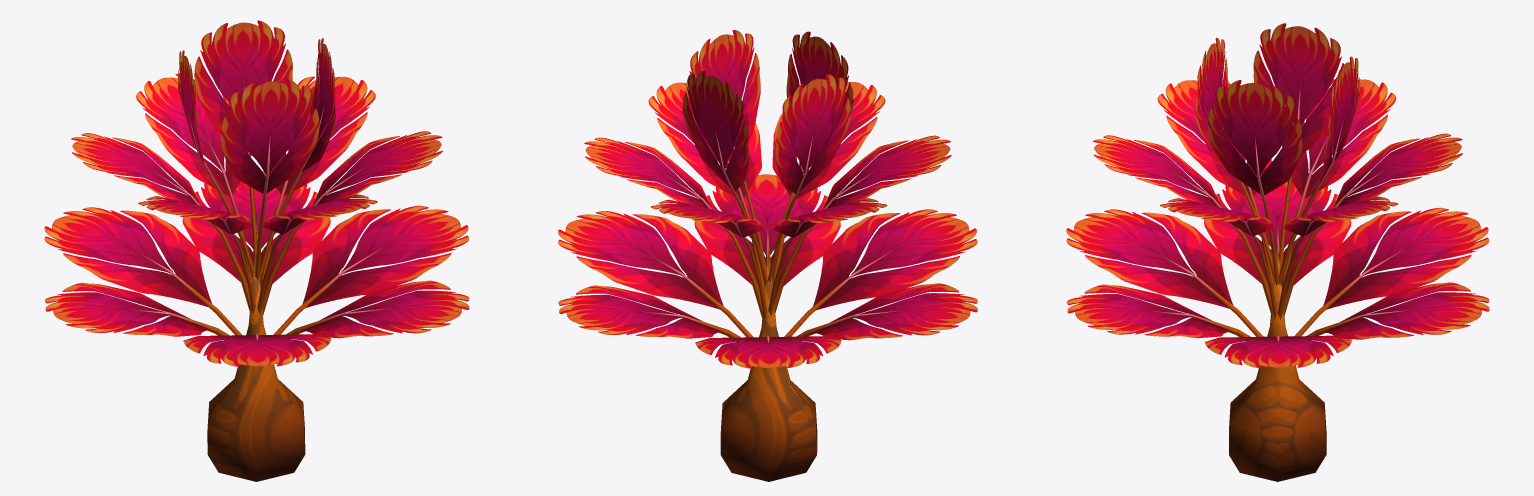
File: Red_Tree_01c.FBX
3 views of the same model, side by side, from view 1: azimuth 30°, elevation 25°; view 2: azimuth 150°, elevation 25°; view 3: azimuth 270°, elevation 25° (orthographic).
Parts seen in each view (by area): view 1: Red_Tree_01c; view 2: Red_Tree_01c; view 3: Red_Tree_01c.
Boxes of the visible parts, bbox=[...] form: Red_Tree_01c: bbox=[44, 20, 469, 481]; Red_Tree_01c: bbox=[558, 30, 977, 481]; Red_Tree_01c: bbox=[1066, 23, 1489, 481].
Bounding box in the file's own units: 182 × 179 × 185.
